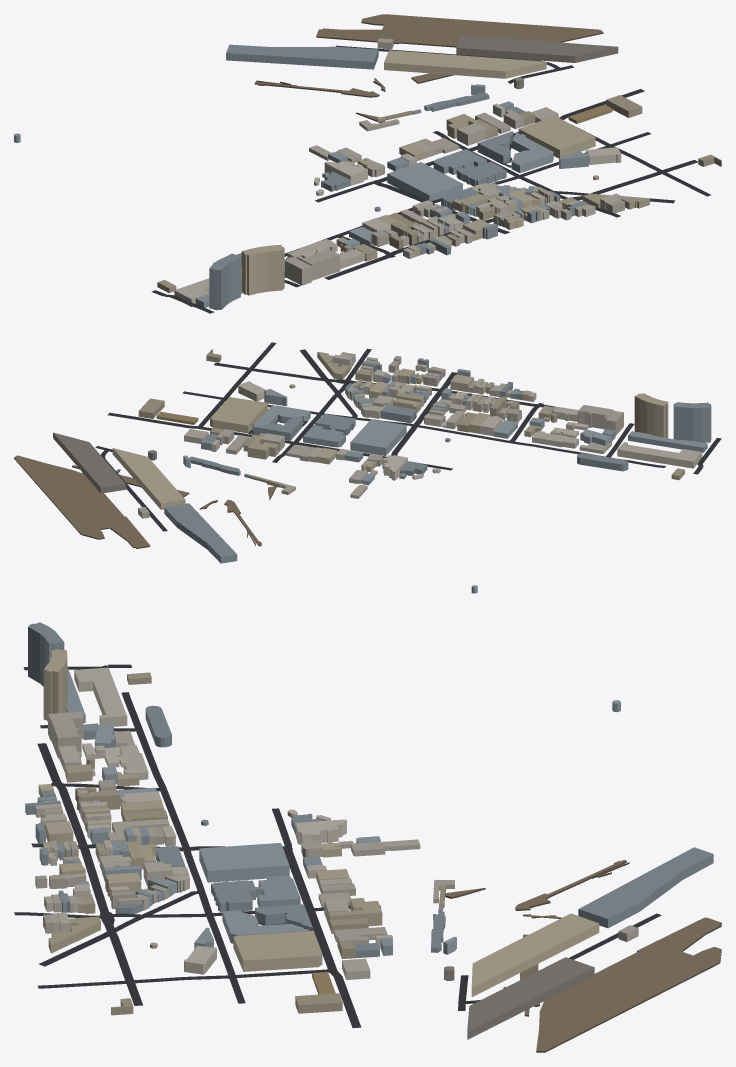
File: tile_11_8.glb
3 views of the same model, one above another, from view 1: azimuth 30°, elevation 25°; view 2: azimuth 150°, elevation 25°; view 3: azimuth 270°, elevation 25° (orthographic). The views are drawn at different scales.
Visible parts, largest first — view 1: bld_11_8, grn_11_8, road_11_8; view 2: bld_11_8, road_11_8, grn_11_8; view 3: bld_11_8, road_11_8, grn_11_8.
Part boxes in pixels (left/top/right/bottom): bld_11_8: left=14, top=35, right=721, bottom=310; grn_11_8: left=254, top=14, right=603, bottom=122; road_11_8: left=151, top=45, right=710, bottom=313; bld_11_8: left=53, top=349, right=711, bottom=593; road_11_8: left=95, top=342, right=721, bottom=531; grn_11_8: left=14, top=455, right=276, bottom=548; bld_11_8: left=25, top=622, right=713, bottom=1039; road_11_8: left=14, top=664, right=661, bottom=1028; grn_11_8: left=445, top=860, right=721, bottom=1052.
Size of the model in its own units: 892 by 78.11 by 712.
